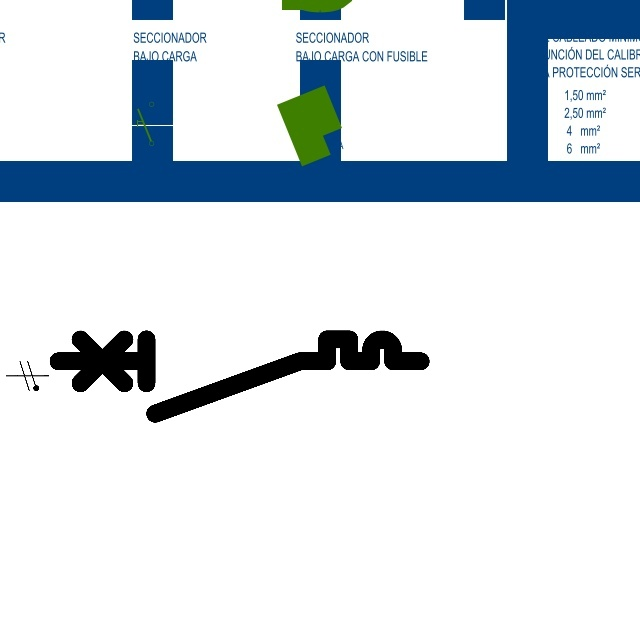interruptor_termomagnetico: (49, 330, 429, 423)
